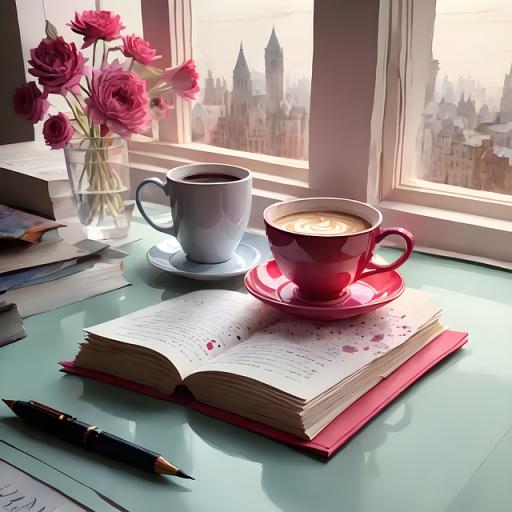cup: (264, 196, 415, 302)
